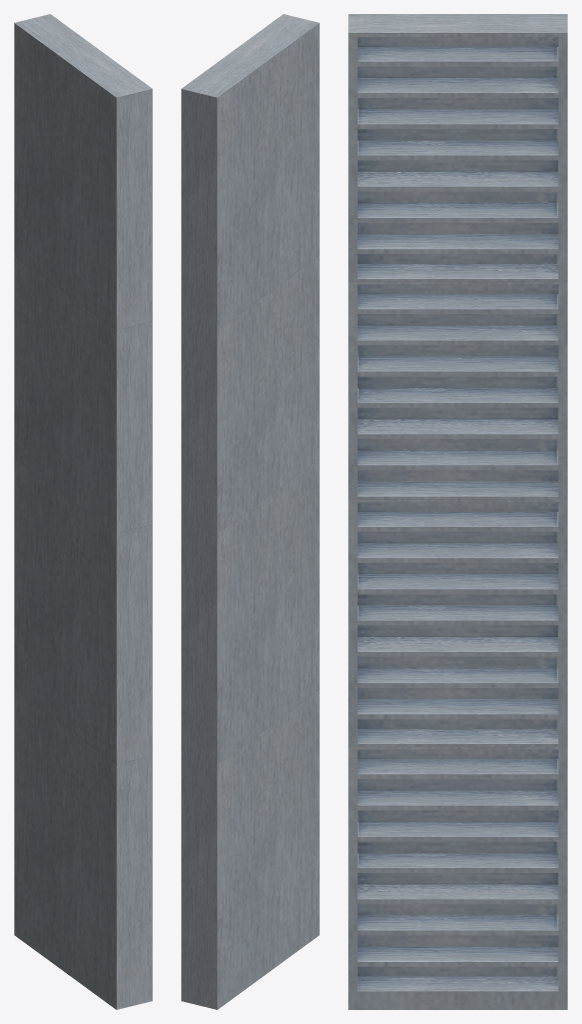
The model's file is Bookcase Tall.fbx.
3 views of the same model, side by side, from view 1: azimuth 30°, elevation 25°; view 2: azimuth 150°, elevation 25°; view 3: azimuth 270°, elevation 25° (orthographic). The views are drawn at different scales.
Visible parts, largest first — view 1: Bookcase Tall; view 2: Bookcase Tall; view 3: Bookcase Tall.
Part boxes in pixels (x1,y1,x2,y2): Bookcase Tall: [14, 14, 152, 1009]; Bookcase Tall: [181, 14, 319, 1009]; Bookcase Tall: [348, 14, 567, 1009].
Size of the model in its own units: 41.19 by 989 by 201.
